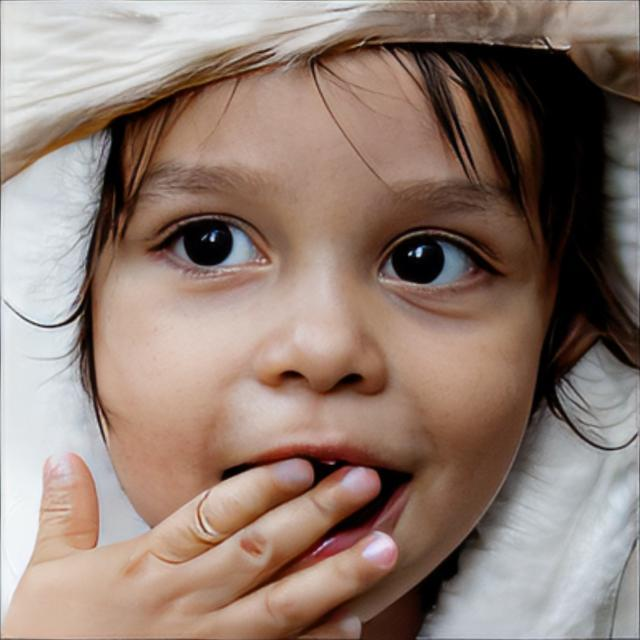surprise: (92, 42, 549, 632)
